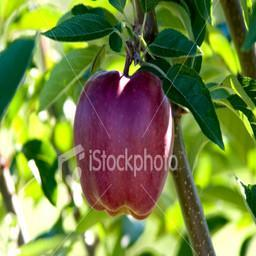apple: (72, 70, 173, 219)
